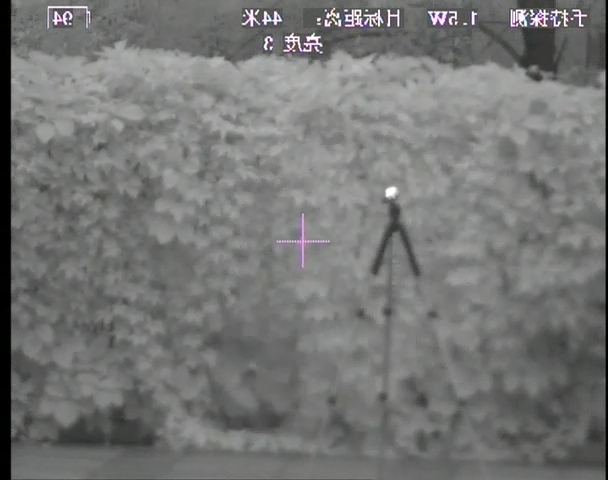my: (384, 186, 396, 200)
